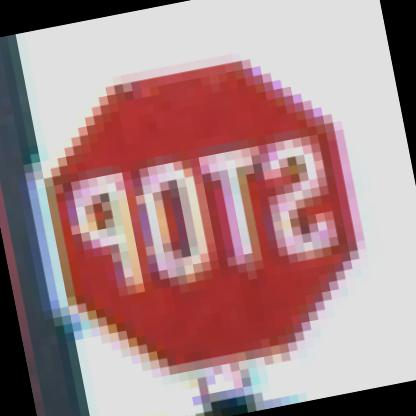stop: (0, 13, 415, 415)
